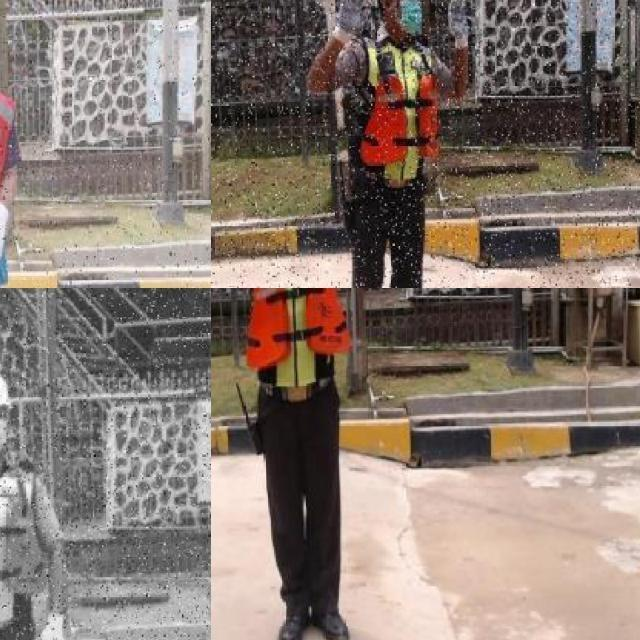apron: (331, 0, 371, 46), (444, 0, 472, 50), (35, 612, 69, 640), (0, 202, 11, 273)
